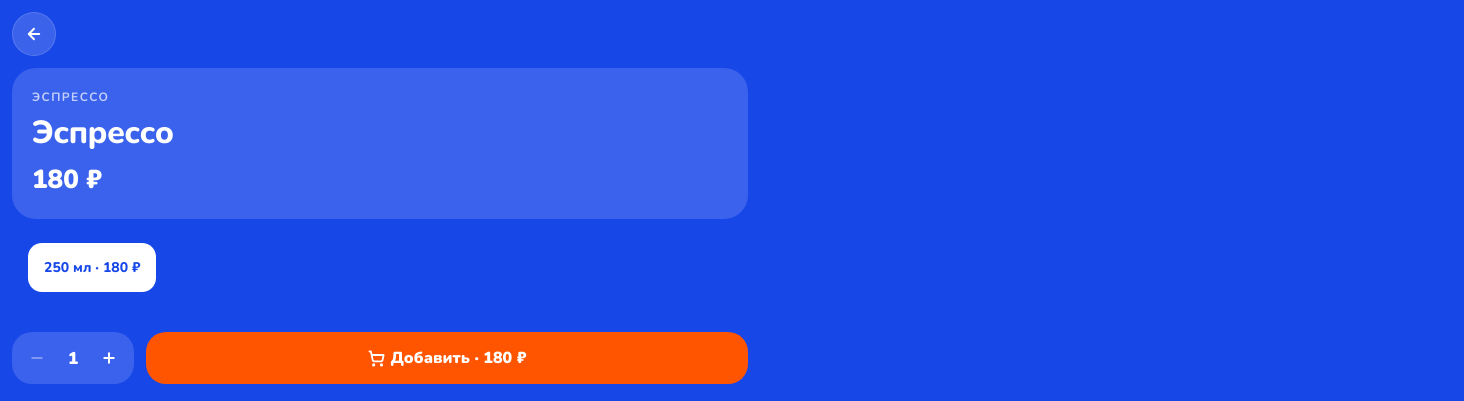
Scenario: MenuFlow › открывает товар только из категории и возвращает добавление в неё
This screenshot has width=1464, height=401.
Expected: the heading "Эспрессо" is shown, x1=32 y1=111 x2=173 y2=154
Click the button "Добавить · 180 ₽" at (447, 358), box x1=146 y1=332 x2=748 y2=384
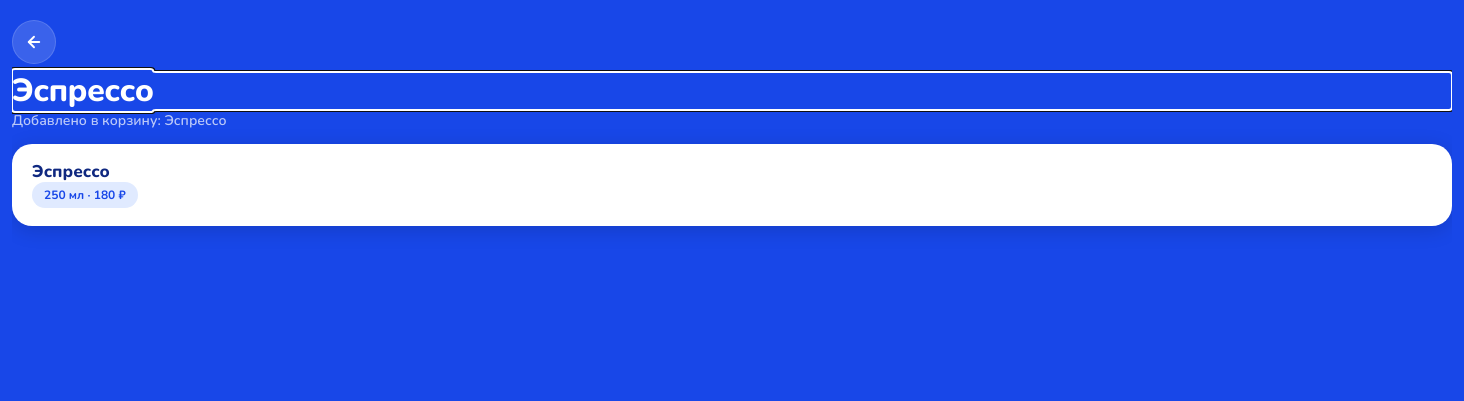
Expected: the message "Добавлено в корзину: Эспрессо" is shown, x1=12 y1=111 x2=226 y2=130
Expected: the element that starts with "Эспрессо" is shown
